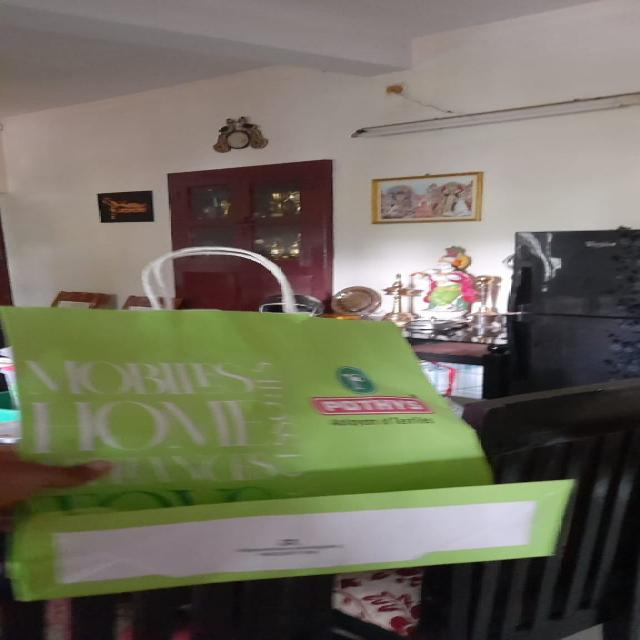Paper_Bag - Recyclable: (0, 234, 600, 623)
